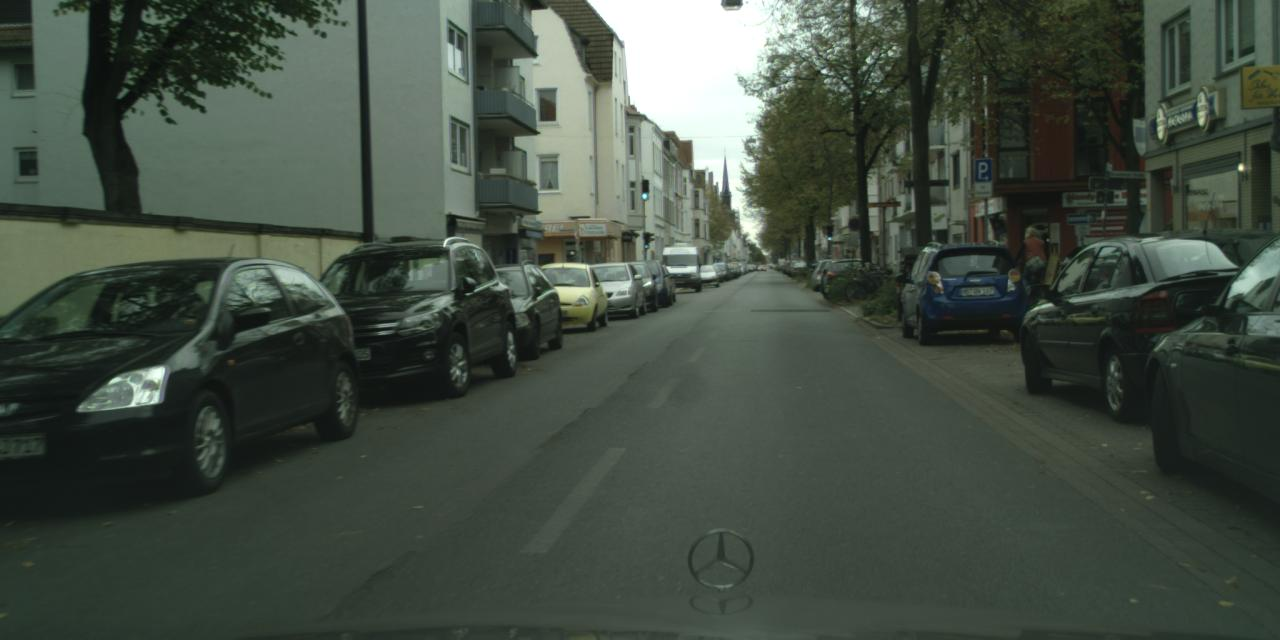ped: (1018, 226, 1049, 302)
